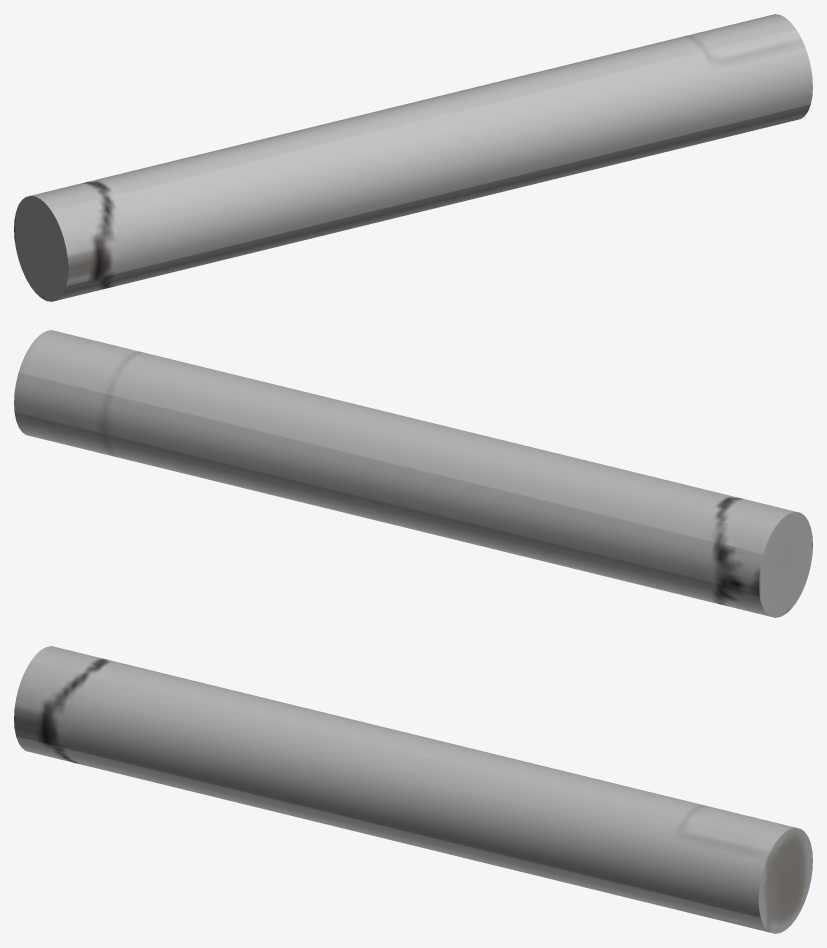
Rendered from frame__handle_side_0.glb.
The picture shows the model from 3 angles, top to bottom: view 1: azimuth 30°, elevation 25°; view 2: azimuth 150°, elevation 25°; view 3: azimuth 330°, elevation 25°; orthographic projection.
Visible parts, largest first — view 1: geometry_0; view 2: geometry_0; view 3: geometry_0.
Part boxes in pixels (x1,y1,x2,y2): geometry_0: (14,14,812,301); geometry_0: (14,330,812,617); geometry_0: (14,646,812,933).
Bounding box in the file's own units: 0.285 × 0.036 × 0.036.
Materials: 1 (1 with a texture image).
